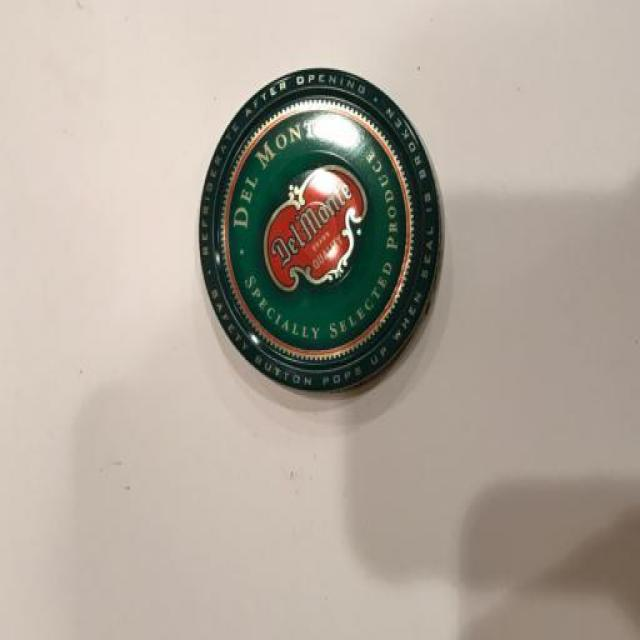metel: (175, 15, 453, 440)
